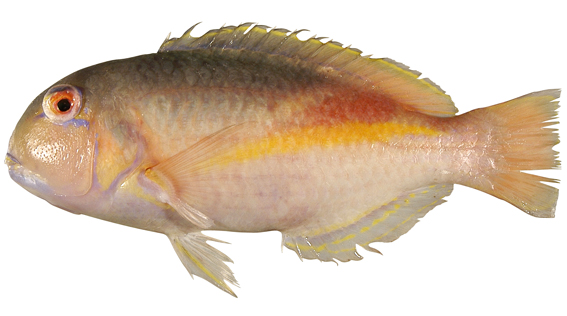fish: (5, 23, 561, 297)
